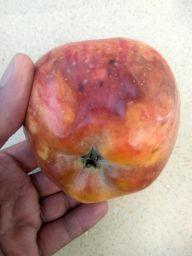apple: (17, 16, 191, 215)
